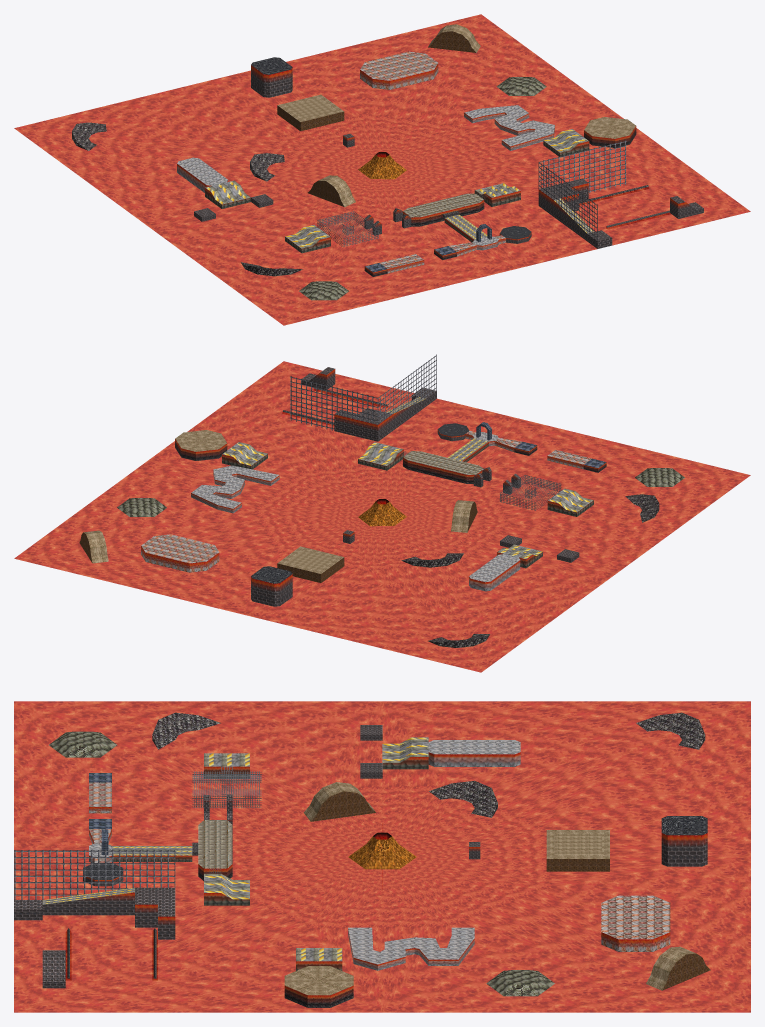
File: fire_land_all.obj
3 renders of one model, top to bottom at view 1: azimuth 30°, elevation 25°; view 2: azimuth 150°, elevation 25°; view 3: azimuth 270°, elevation 25°, orthographic. The views are drawn at different scales.
Parts seen in each view (by area): view 1: r0; view 2: r0; view 3: r0.
Part boxes in pixels (x1,y1,x2,y2): r0: [14, 14, 750, 325]; r0: [14, 354, 750, 672]; r0: [14, 701, 750, 1012].
Size of the model in its own units: 16 by 1.5 by 16.
